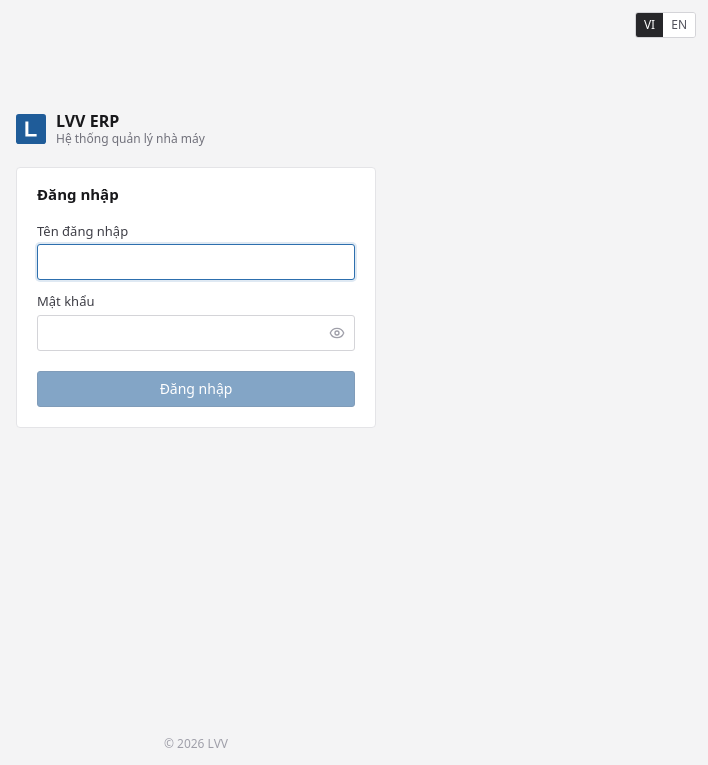
LoginPage › shows a clear message for HTTP 401
Type "admin" into the field labelled "Tên đăng nhập".
click(196, 262); type("admin")  # box [37, 244, 355, 280]
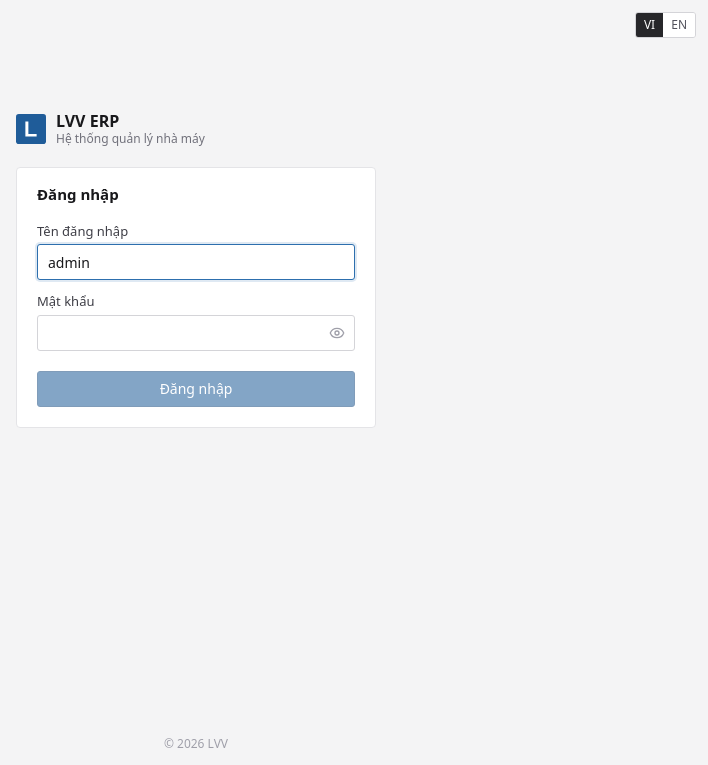
Type "wrong" into the password field labelled "Mật khẩu".
click(196, 333); type("wrong")  # box [37, 315, 355, 351]
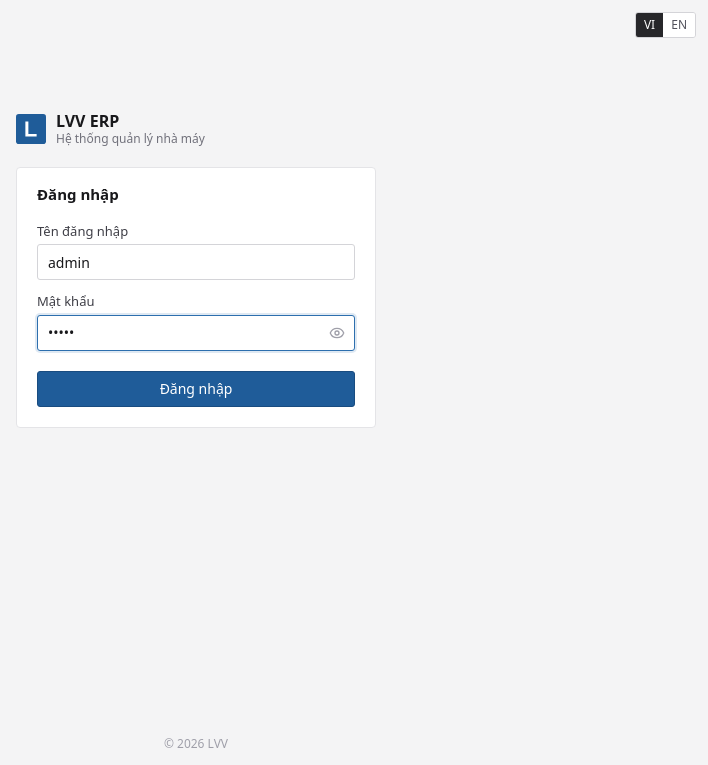
Click the button "Đăng nhập".
click(196, 389)  # box [37, 371, 355, 407]
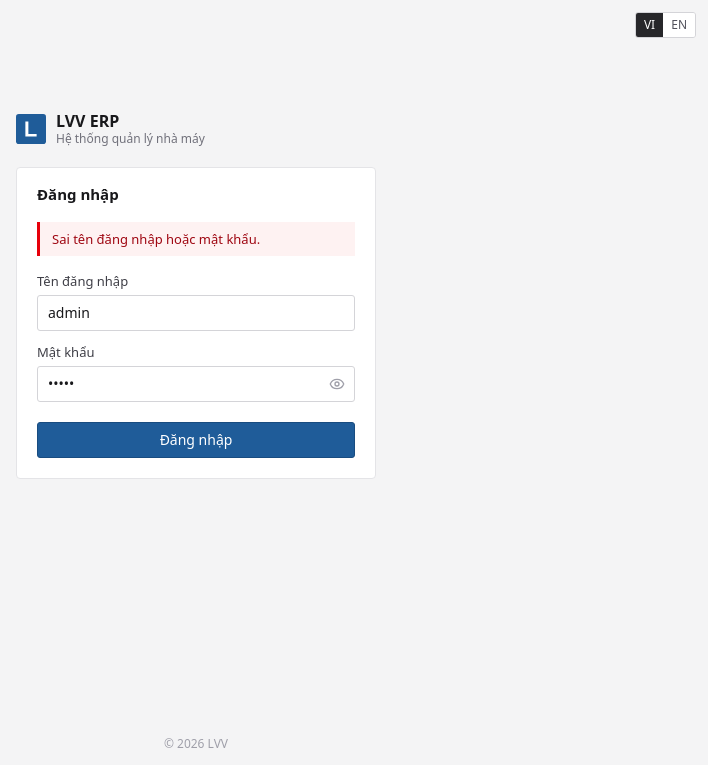
expect the message reads "Sai tên đăng nhập hoặc mật khẩu.": met, box [52, 230, 260, 248]
